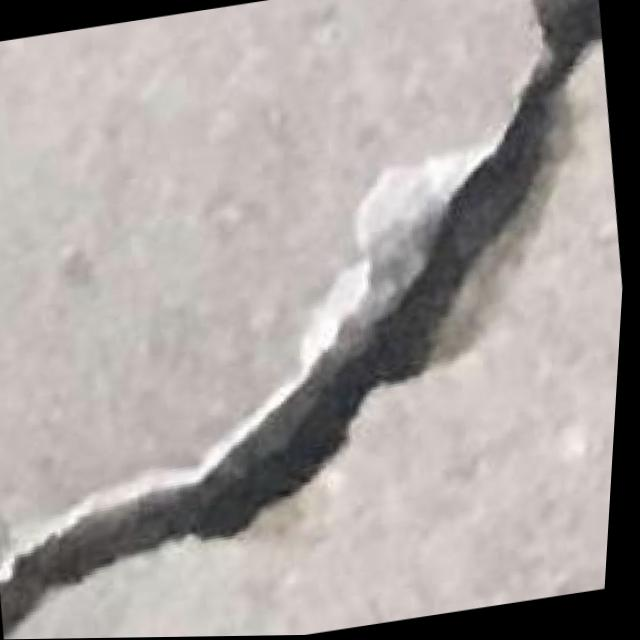Crack: (0, 0, 640, 640), (0, 244, 602, 617)
